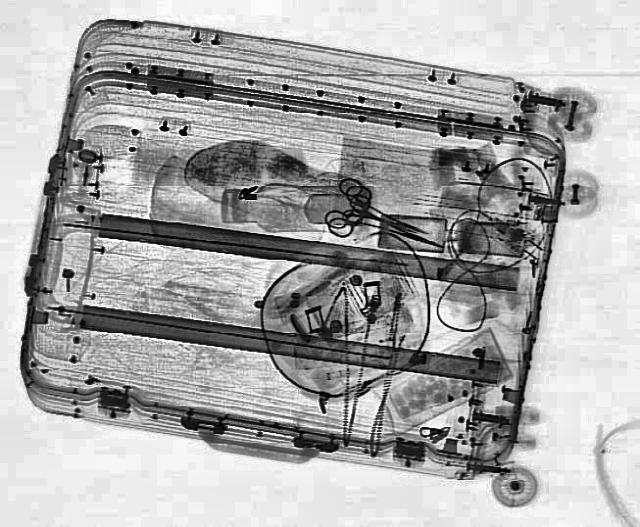Scissors: (321, 182, 454, 266)
